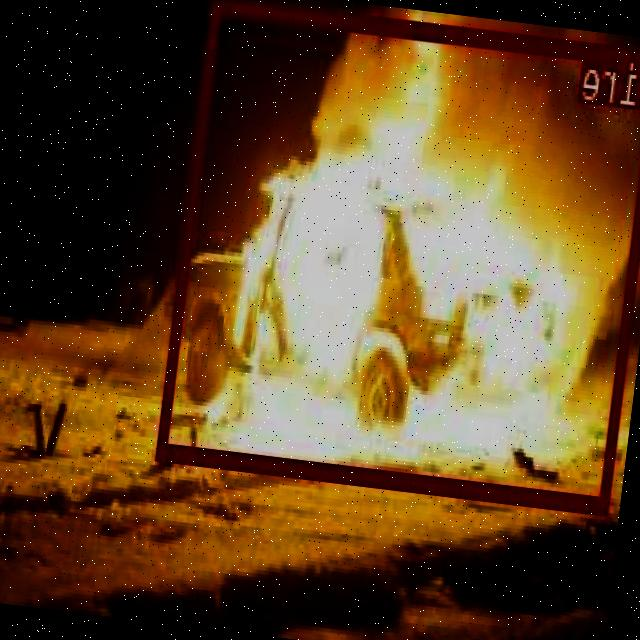fire: (159, 0, 640, 511)
